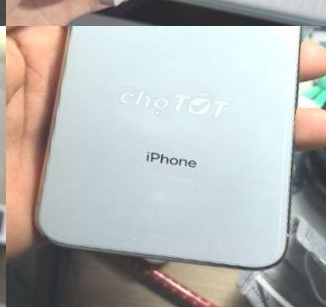scratch: (122, 231, 145, 249)
